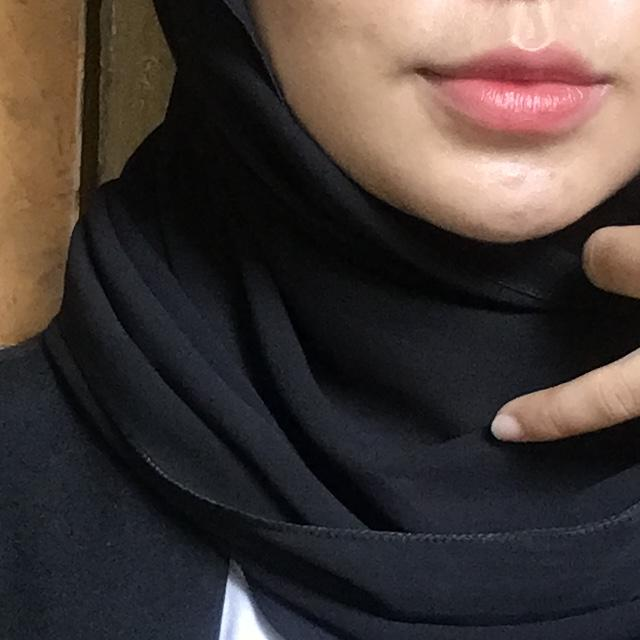telpon: (470, 0, 640, 546)
